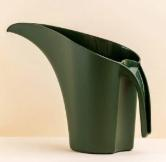ARROSOIR: (6, 6, 166, 155)
